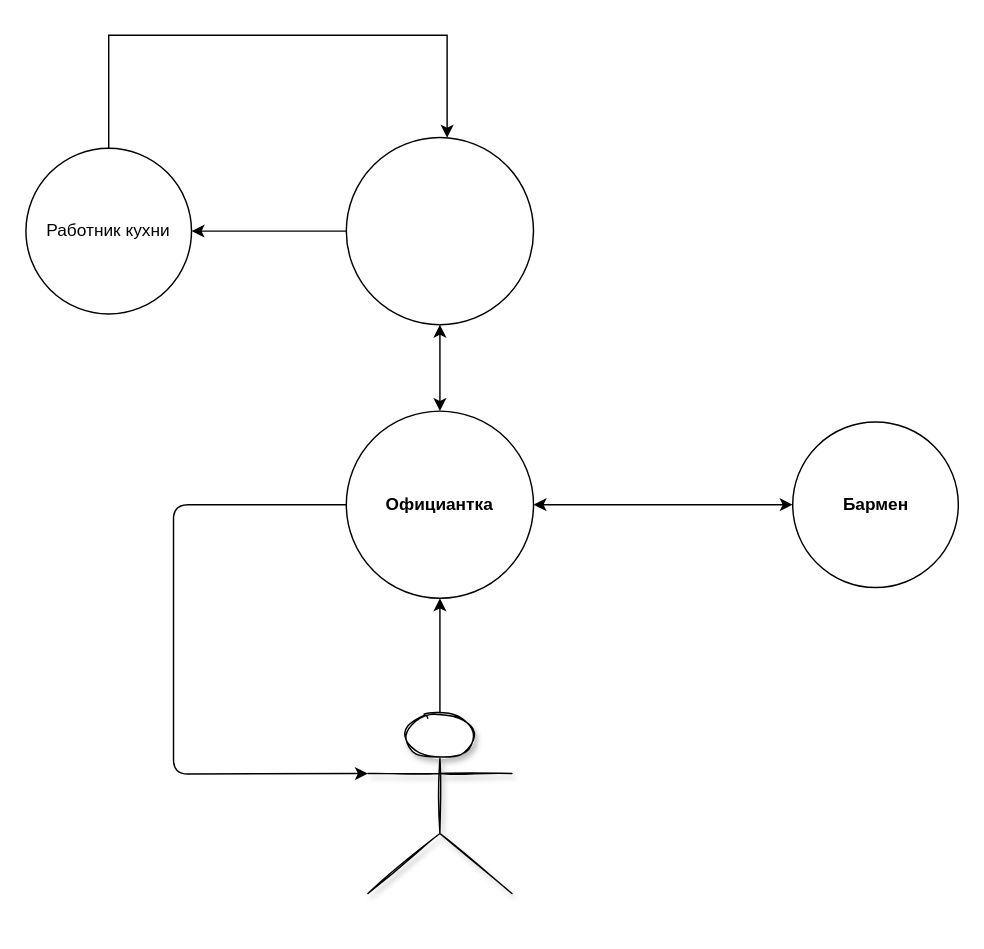
Image size: 984x949. Some labels were removed from this diagram. Each missing label, with the centre of its shape:
"Actor" belongs at point 441,805.
"Повар" belongs at point 439,230.
